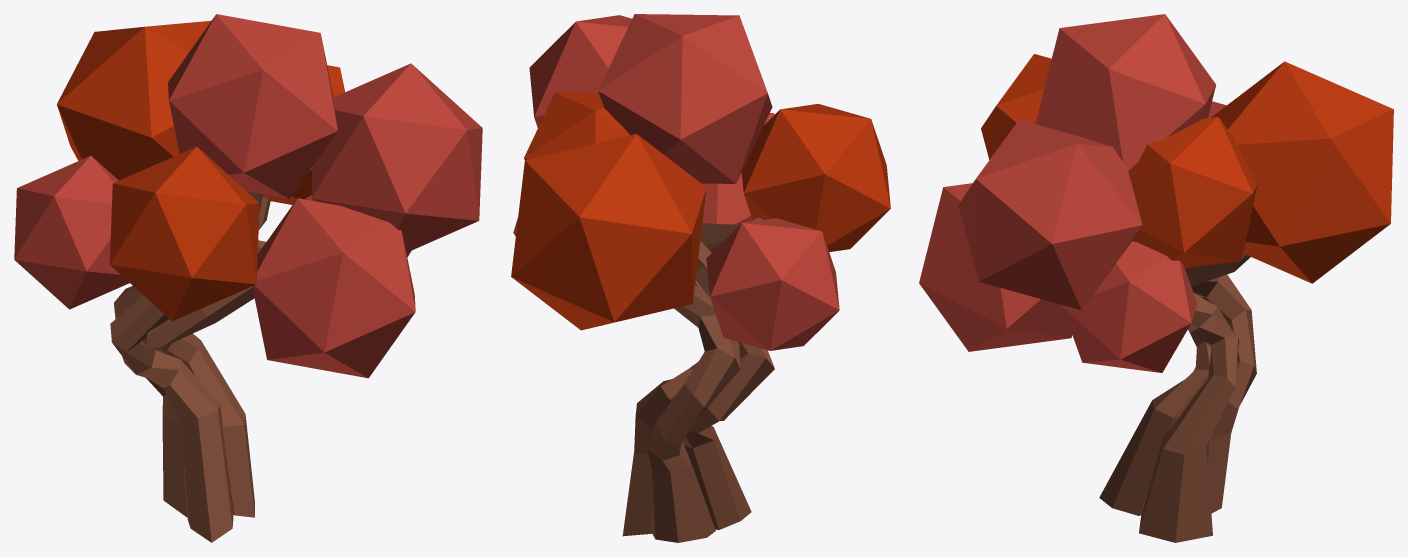
Rendered from Tree_06_summer_red_vc.fbx.
3 views of the same model, side by side, from view 1: azimuth 30°, elevation 25°; view 2: azimuth 150°, elevation 25°; view 3: azimuth 270°, elevation 25° (orthographic). The views are drawn at different scales.
Parts seen in each view (by area): view 1: Tree_06_summer_red_vc; view 2: Tree_06_summer_red_vc; view 3: Tree_06_summer_red_vc.
Part boxes in pixels (x1,y1,x2,y2): Tree_06_summer_red_vc: [14, 14, 482, 542]; Tree_06_summer_red_vc: [511, 14, 890, 542]; Tree_06_summer_red_vc: [919, 14, 1393, 542].
Bounding box in the file's own units: 488 × 598 × 507.
